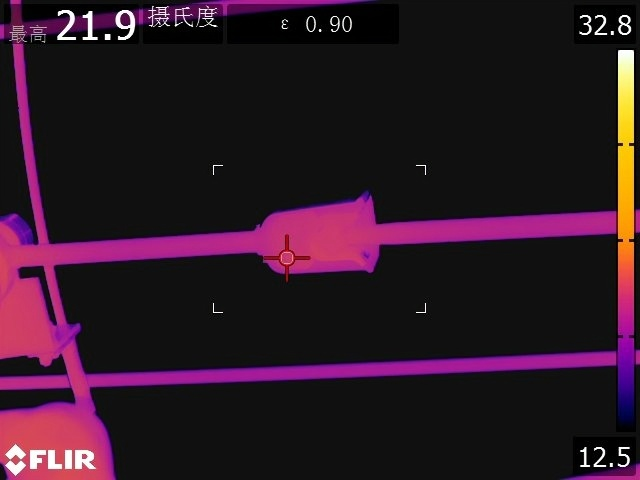switch: (16, 165, 640, 266)
